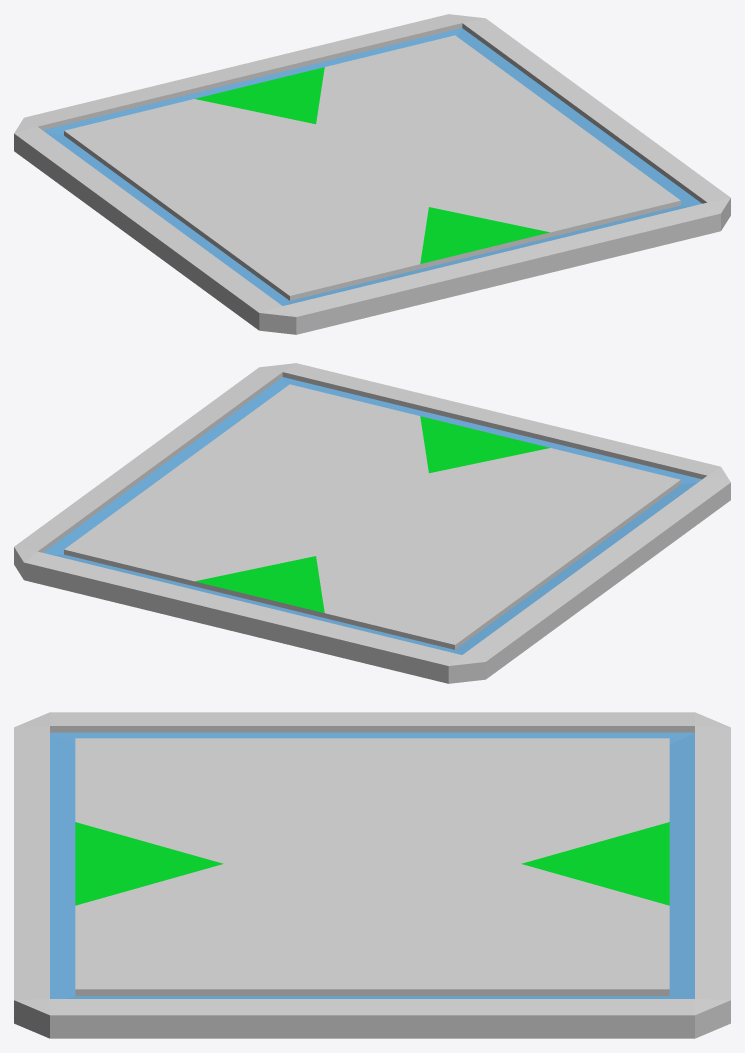
The model's file is moving_platform_01.fbx.
3 views of the same model, one above another, from view 1: azimuth 30°, elevation 25°; view 2: azimuth 150°, elevation 25°; view 3: azimuth 270°, elevation 25° (orthographic). The views are drawn at different scales.
Visible parts, largest first — view 1: Cube.017; view 2: Cube.017; view 3: Cube.017.
Boxes of the visible parts, x1,y1,x2,y2 form: Cube.017: (14,14,730,334); Cube.017: (14,363,730,683); Cube.017: (14,712,730,1038).
Bounding box in the file's own units: 1000 × 40 × 1000.
